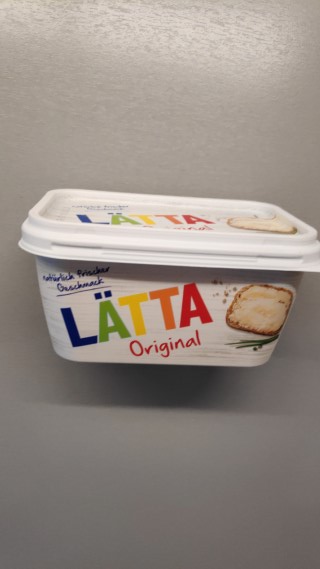laetta: (17, 187, 320, 367)
